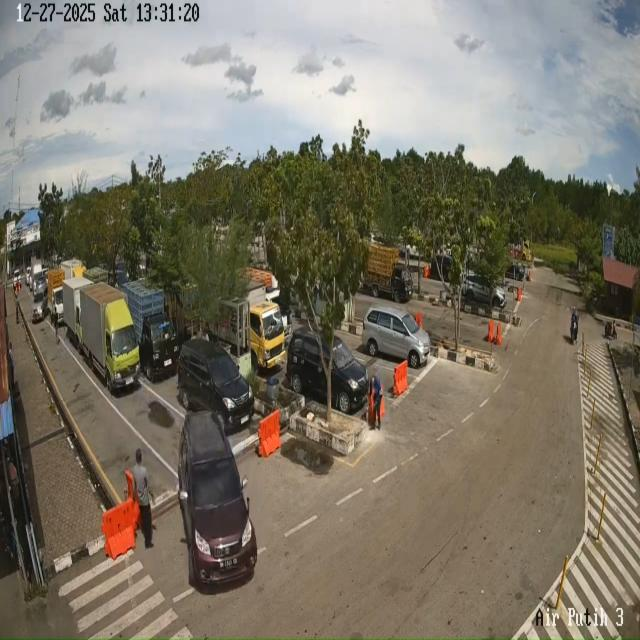Golongan IVA: (178, 411, 257, 584), (177, 338, 254, 431), (286, 327, 368, 414), (362, 306, 431, 368), (463, 272, 506, 308)
Golongan IVB: (363, 243, 413, 303), (46, 268, 66, 323)
Golongan VB: (80, 282, 140, 393), (62, 277, 92, 351)
